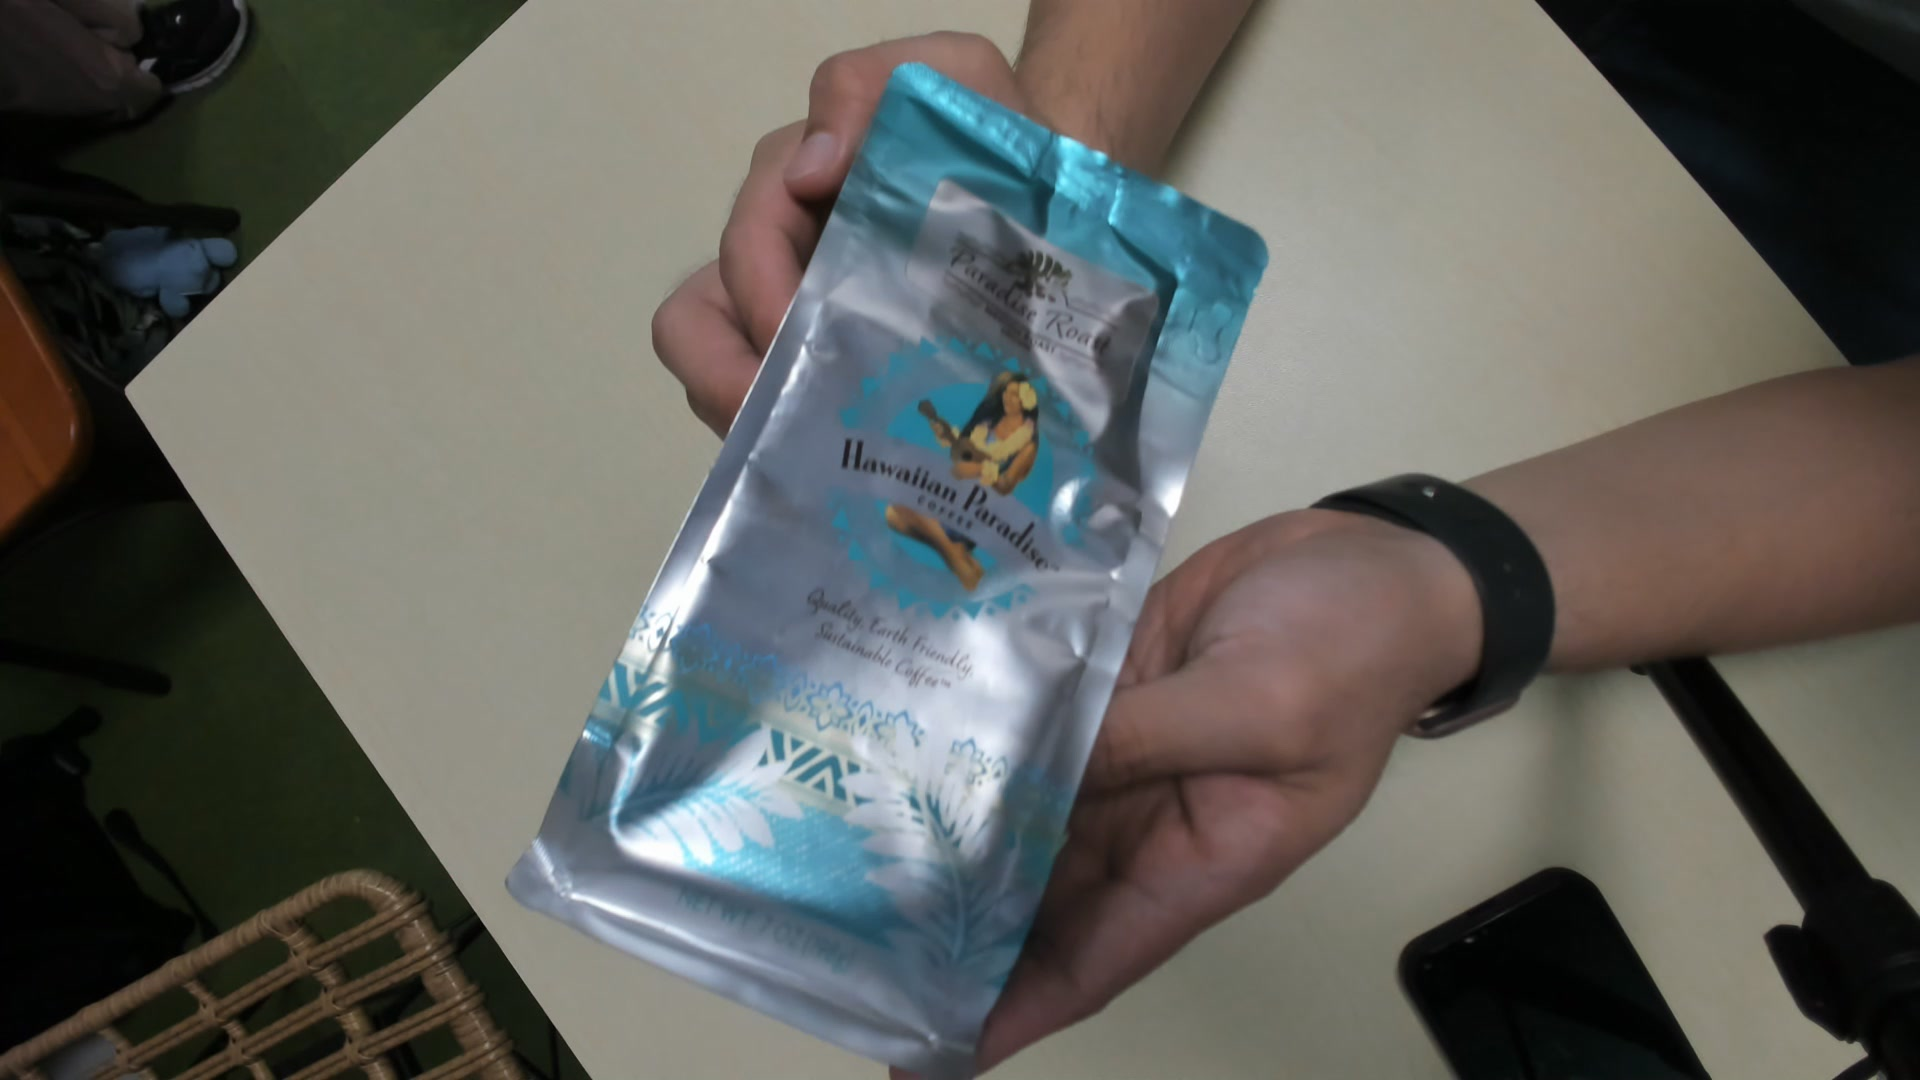Coffee_100-199g_NonHalal_NonHealthy: (498, 62, 1280, 1077)
